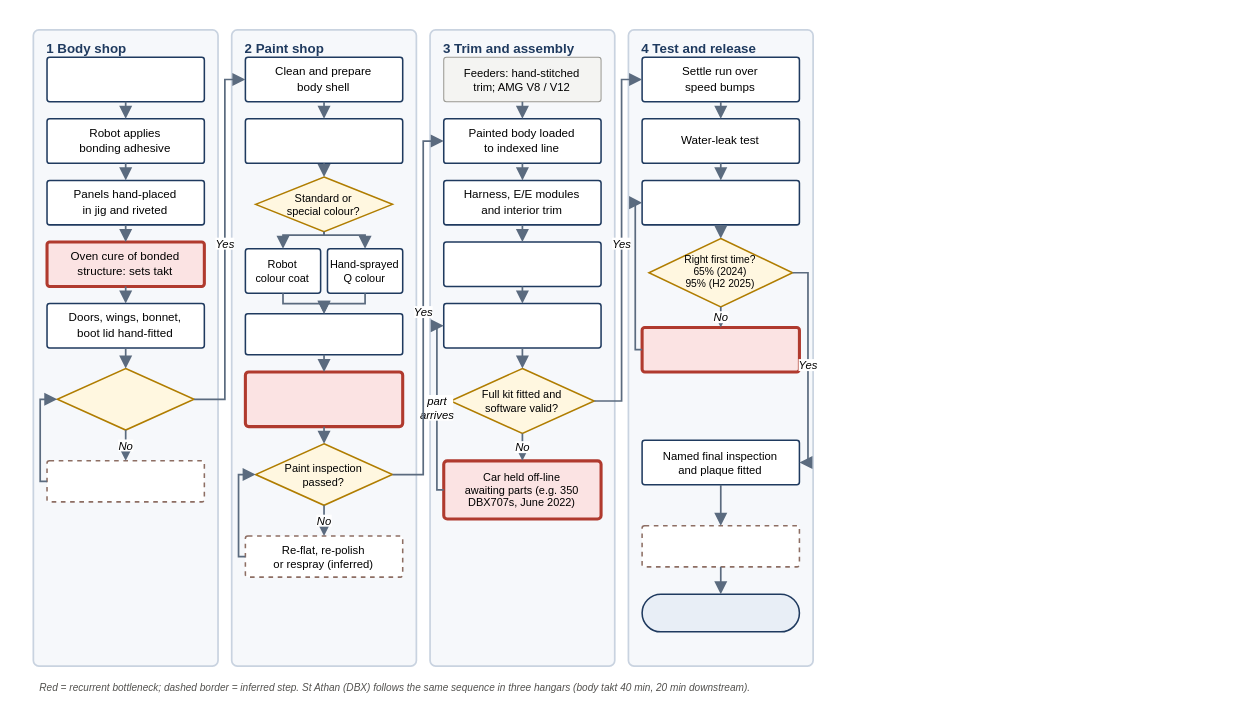
Image size: 1259x725. Some labels were removed from this diagram. The centre of each missing label's shape, as x and y in pixels:
"Body check passed? (inferred)" belongs at [125,398].
"Body rectification (inferred)" belongs at [124,480].
"Clear coat and cure" belongs at [323,333].
"Hand flat and polish: largest labour block (25–50 h per car)" belongs at [323,398].
"Outbound transport; dealer PDI" belongs at [720,612].
"Powertrain marriage" belongs at [521,263].
"Receive structures, extrusions, castings" belongs at [124,79].
"Rectification bay: the hidden factory" belongs at [720,349].
"Release to vehicle yard (inferred)" belongs at [720,545].
"Rolling-road test (no test track on site)" belongs at [720,202].
"Two primer coats, each hand-flatted" belongs at [323,140].
"Wheels, fluids, glazing; software flash" belongs at [521,325].
